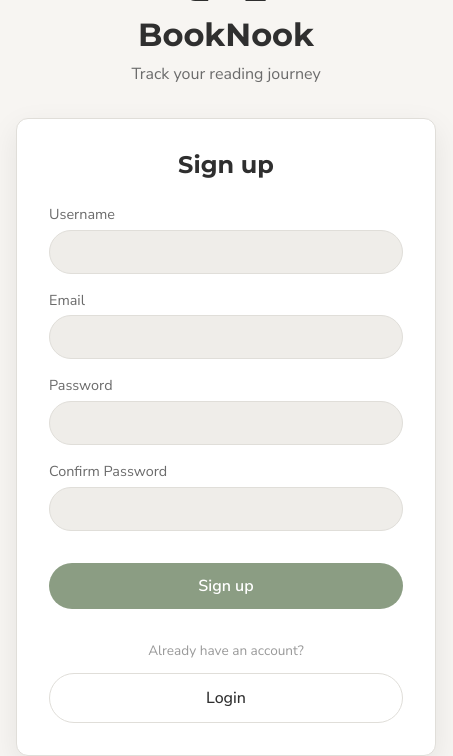
Authentication Flow Integration › navigates from register to login page
(page scrolled)
Click the link "Login": (226, 698) [49,673,403,723]
(page scrolled)
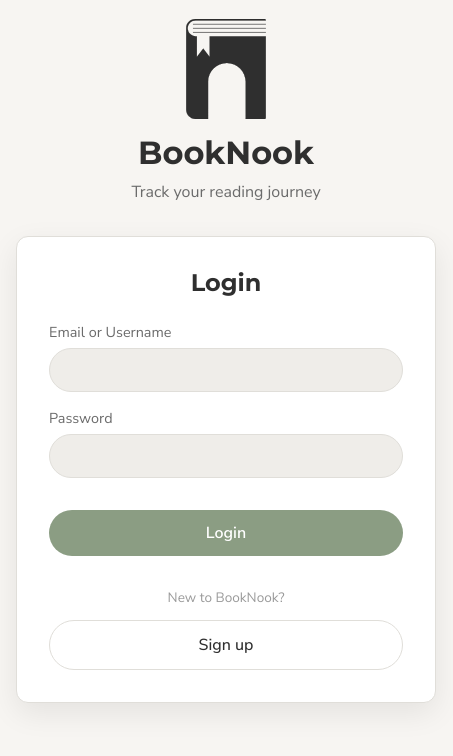
Result: the heading "Login" is shown at [191,268,261,298]
